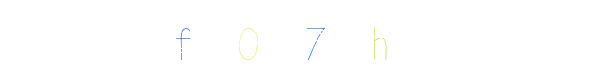0: (244, 0, 324, 80)
7: (265, 0, 345, 80)
F: (209, 0, 289, 80)
H: (329, 0, 409, 80)
